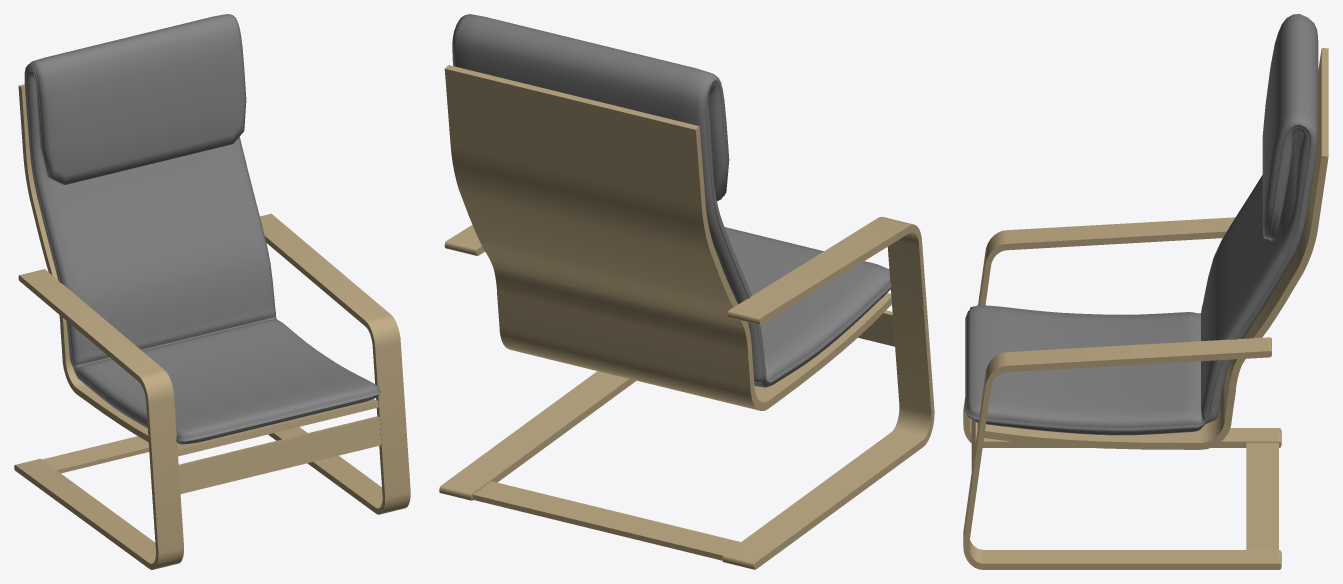
The model's file is Chair_A.fbx.
3 views of the same model, side by side, from view 1: azimuth 30°, elevation 25°; view 2: azimuth 150°, elevation 25°; view 3: azimuth 270°, elevation 25° (orthographic). The views are drawn at different scales.
Visible parts, largest first — view 1: Line007, Line001; view 2: Line001, Line007; view 3: Line007, Line001.
Part boxes in pixels (x1,y1,x2,y2): Line007: (24,14,380,444); Line001: (14,84,410,569); Line001: (439,65,934,569); Line007: (452,14,891,387); Line007: (965,14,1318,435); Line001: (963,48,1328,569).
Bounding box in the file's own units: 69 × 104 × 78.49.
